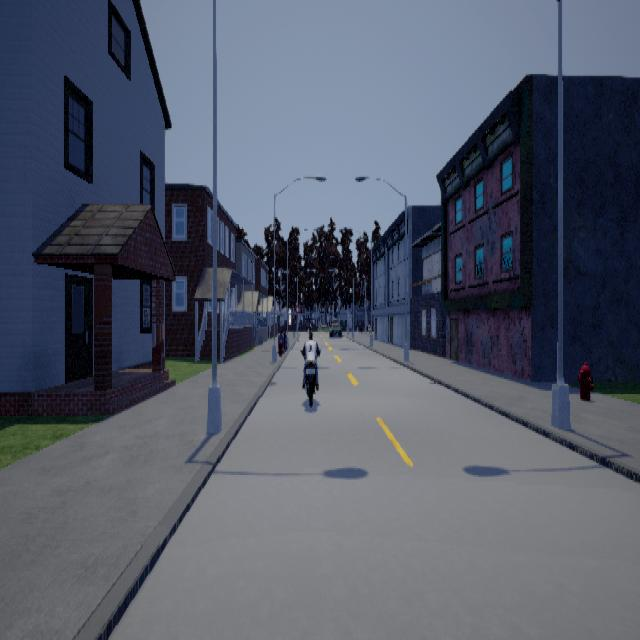motobike: (299, 327, 323, 408)
